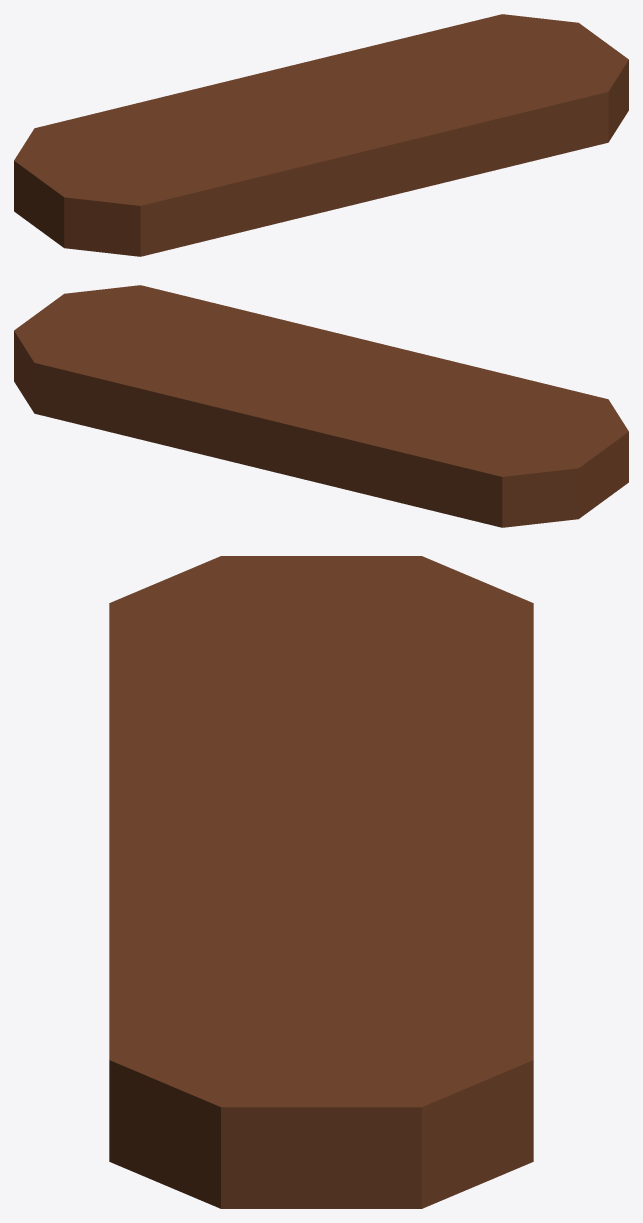
Rendered from plank-1.fbx.
The picture shows the model from 3 angles, top to bottom: view 1: azimuth 30°, elevation 25°; view 2: azimuth 150°, elevation 25°; view 3: azimuth 270°, elevation 25°; orthographic projection. The views are drawn at different scales.
Visible parts, largest first — view 1: plank-1; view 2: plank-1; view 3: plank-1.
Part boxes in pixels (left/top/right/bottom): plank-1: left=14, top=14, right=628, bottom=256; plank-1: left=14, top=285, right=628, bottom=527; plank-1: left=109, top=556, right=533, bottom=1208.
Size of the model in its own units: 81.32 by 7 by 26.47.
